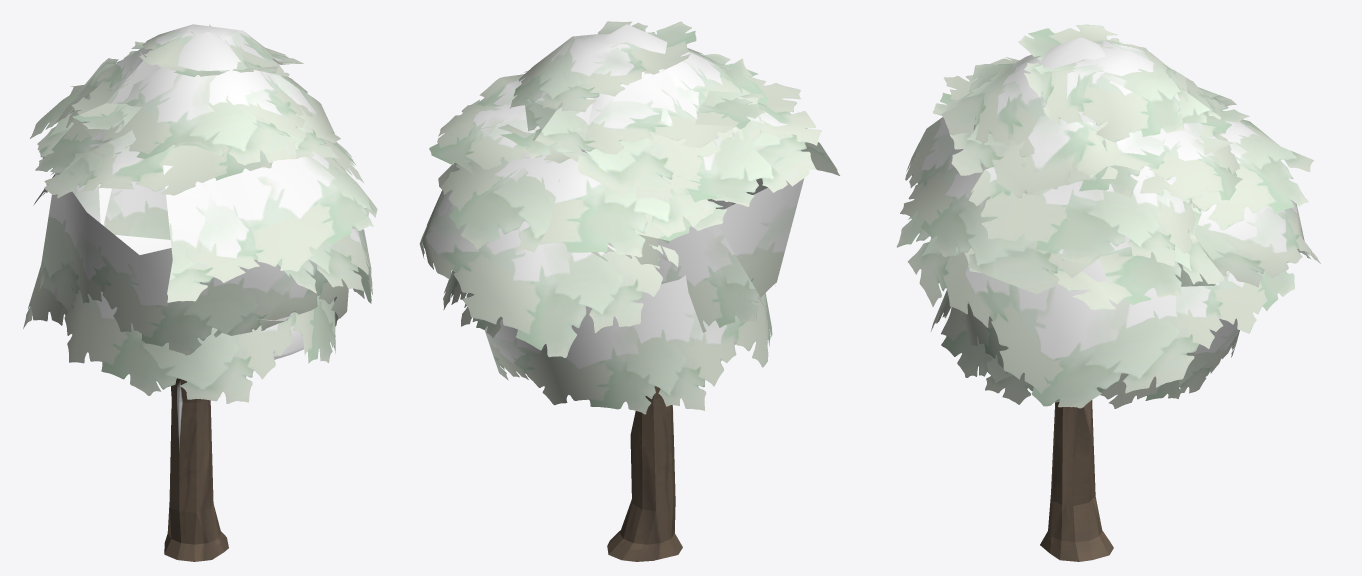
Rendered from TreeMapleSmall_b.fbx.
The picture shows the model from 3 angles, left to right: view 1: azimuth 30°, elevation 25°; view 2: azimuth 150°, elevation 25°; view 3: azimuth 270°, elevation 25°; orthographic projection. The views are drawn at different scales.
Visible parts, largest first — view 1: TreeMapleCrown1b, TreeMapleTrunkSmallB, TreeMapleStumpSmallB; view 2: TreeMapleCrown1b, TreeMapleTrunkSmallB, TreeMapleStumpSmallB; view 3: TreeMapleCrown1b, TreeMapleTrunkSmallB, TreeMapleStumpSmallB.
Boxes of the visible parts, x1,y1,x2,y2 form: TreeMapleCrown1b: (23,24,377,403); TreeMapleTrunkSmallB: (35,24,368,544); TreeMapleStumpSmallB: (164,531,228,561); TreeMapleCrown1b: (419,24,839,414); TreeMapleTrunkSmallB: (429,21,821,544); TreeMapleStumpSmallB: (607,530,682,561); TreeMapleCrown1b: (896,37,1320,408); TreeMapleTrunkSmallB: (932,24,1242,542); TreeMapleStumpSmallB: (1040,531,1113,561).
Size of what is drawn, in the model's own units: 4.36 by 6.44 by 5.34.
1 material, 1 textured.
